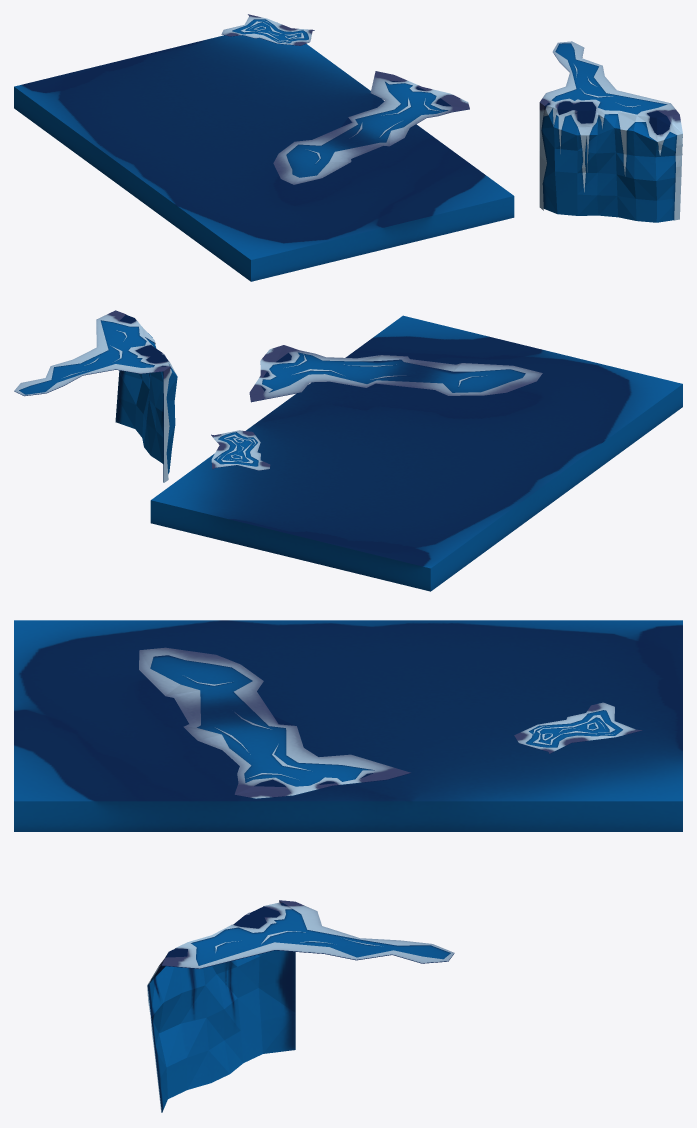
Rendered from Water_01.FBX.
3 renders of one model, top to bottom at view 1: azimuth 30°, elevation 25°; view 2: azimuth 150°, elevation 25°; view 3: azimuth 270°, elevation 25°, orthographic. The views are drawn at different scales.
Visible parts, largest first — view 1: Water_01; view 2: Water_01; view 3: Water_01.
Boxes of the visible parts, box(x1,y1,x2,y2) form: Water_01: box(14, 14, 682, 281); Water_01: box(14, 310, 682, 591); Water_01: box(14, 620, 682, 1112).
Size of the model in its own units: 35.1 by 9.98 by 29.68.
